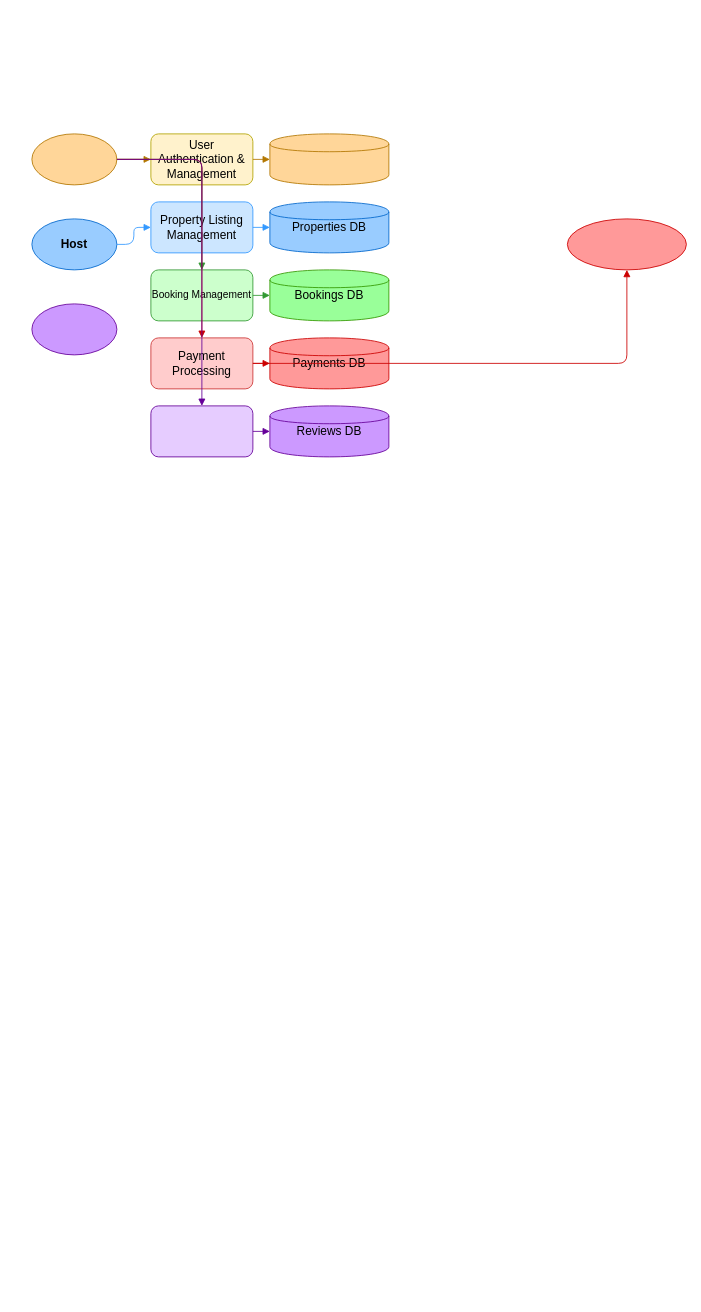
The diagram is 701 pixels wide and 1312 high, and some of its shapes have lost their labels. The centre of each missing label's shape, as x and y in pixels:
"Admin" belongs at (x=74, y=329).
"Guest" belongs at (x=74, y=159).
"Payment Gateway" belongs at (x=626, y=244).
"Review Management" belongs at (x=201, y=431).
"Users DB" belongs at (x=329, y=159).
